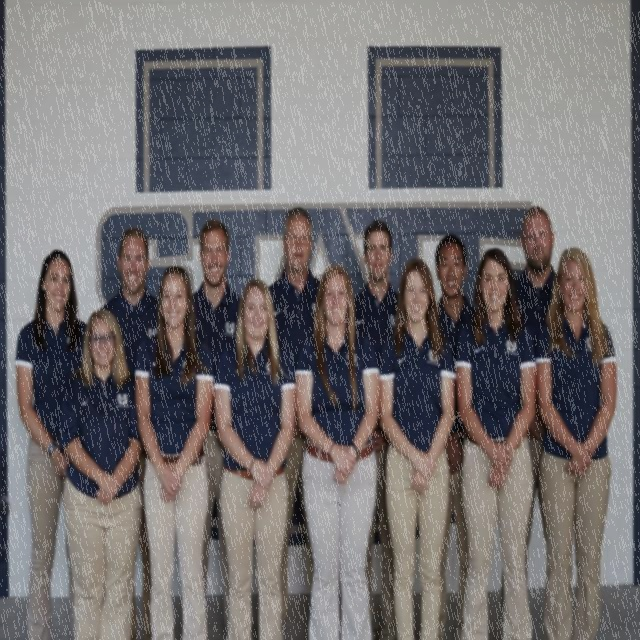pessoa: (291, 262, 384, 640), (454, 245, 540, 640), (532, 245, 618, 640), (211, 274, 300, 640), (374, 253, 458, 640), (134, 256, 216, 640), (14, 250, 88, 640), (54, 306, 140, 640), (96, 224, 164, 638), (496, 203, 558, 640), (346, 220, 406, 640), (269, 203, 325, 630), (188, 218, 244, 640), (434, 232, 481, 640)
